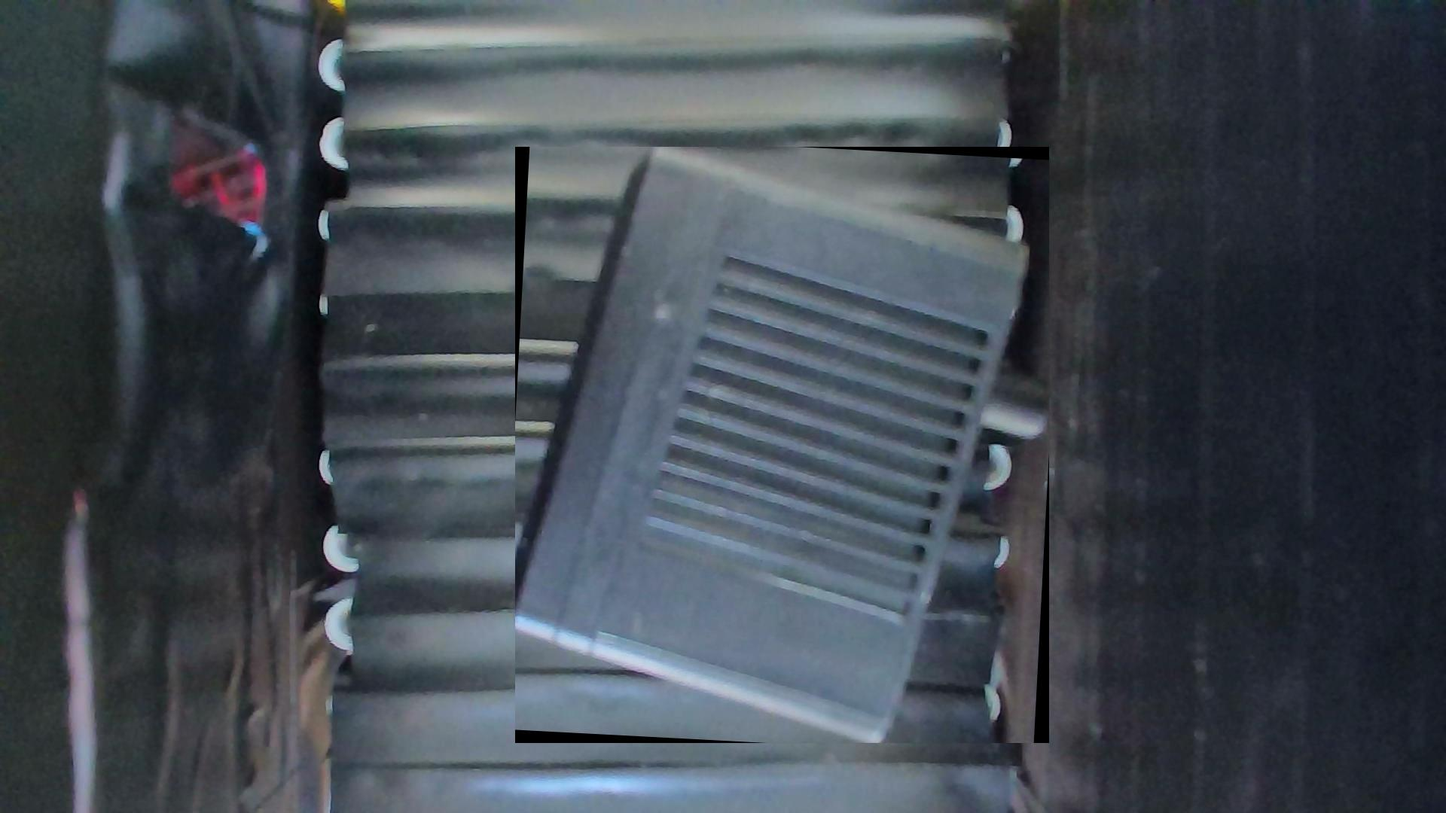motor: (516, 147, 1051, 744)
